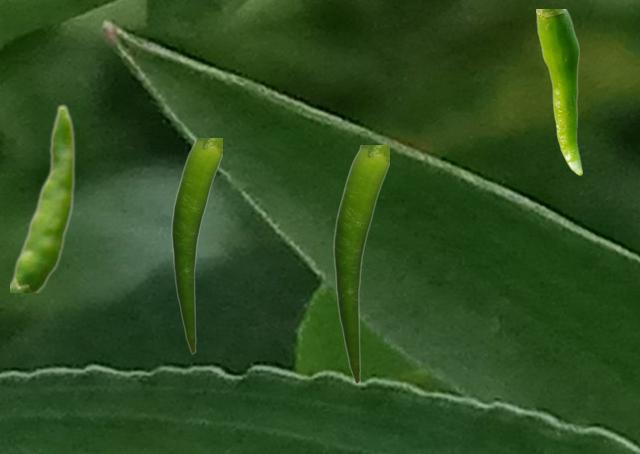green_chili: (333, 145, 388, 383), (10, 103, 75, 291), (171, 138, 221, 353), (536, 9, 581, 174)
